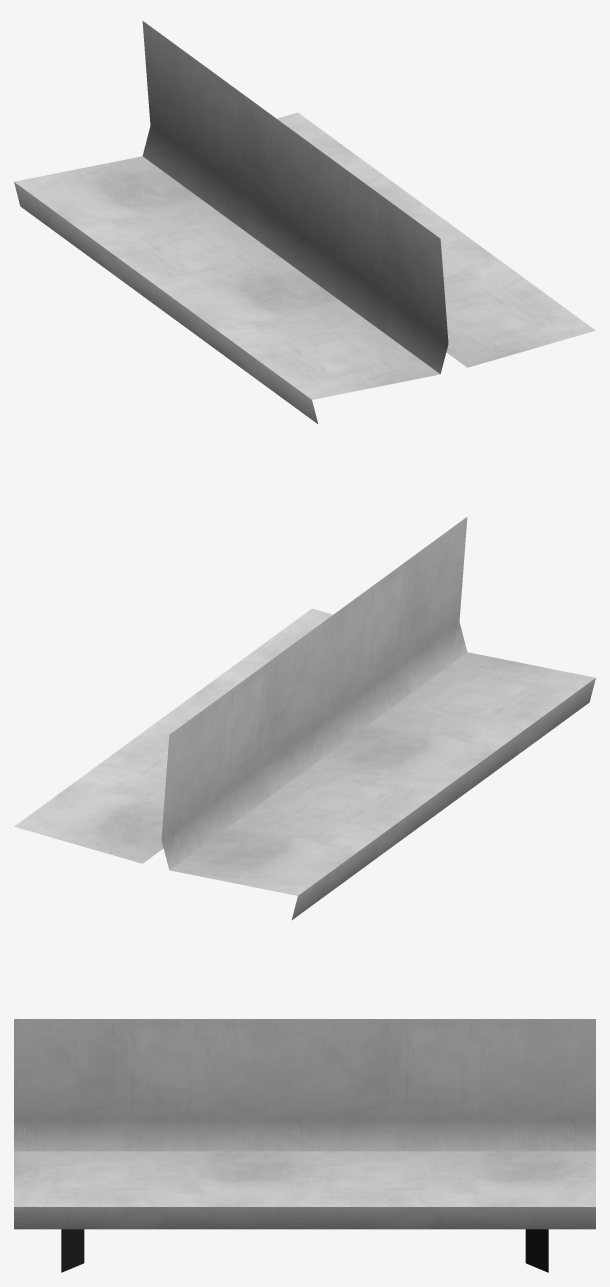
File: AMB_MEI_BENCHI.glb
3 views of the same model, one above another, from view 1: azimuth 30°, elevation 25°; view 2: azimuth 150°, elevation 25°; view 3: azimuth 270°, elevation 25° (orthographic). The views are drawn at different scales.
Parts seen in each view (by area): view 1: BASE; view 2: BASE; view 3: BASE.
Boxes of the visible parts, left/top/right/bottom form: BASE: left=14, top=21, right=595, bottom=423; BASE: left=14, top=517, right=595, bottom=919; BASE: left=14, top=1019, right=595, bottom=1272.
Bounding box in the file's own units: 2.75 × 2.42 × 5.
2 materials, 2 textured.
